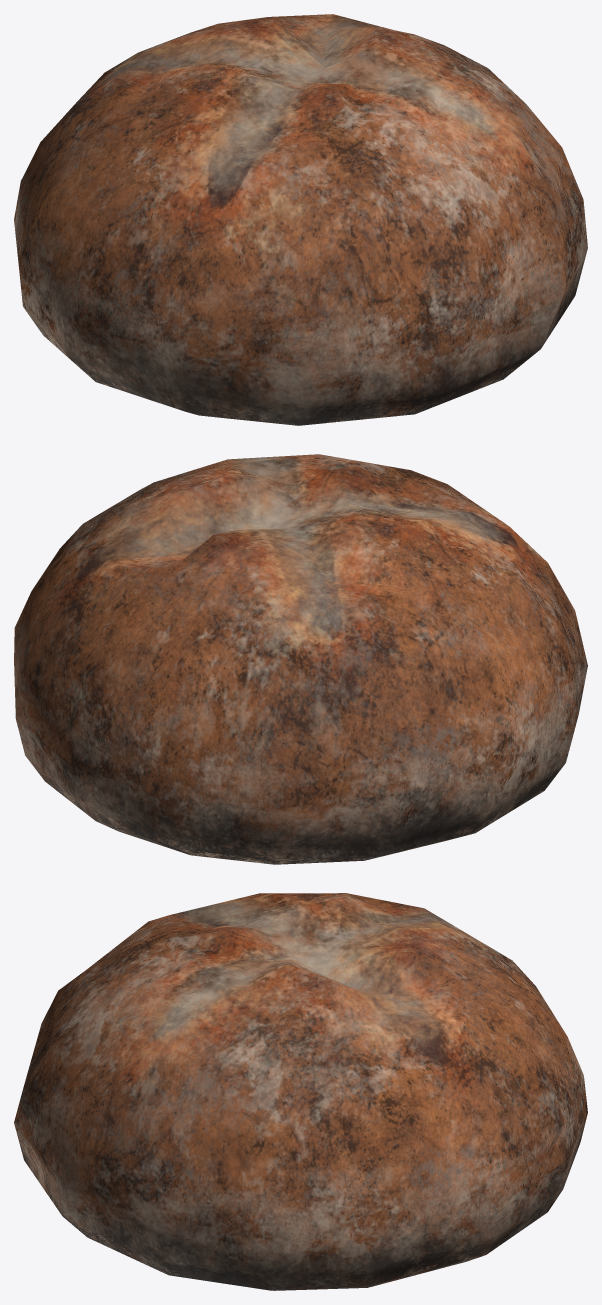
File: CAMP_bread.fbx
3 views of the same model, one above another, from view 1: azimuth 30°, elevation 25°; view 2: azimuth 150°, elevation 25°; view 3: azimuth 270°, elevation 25° (orthographic). The views are drawn at different scales.
Visible parts, largest first — view 1: CAMP_bread; view 2: CAMP_bread; view 3: CAMP_bread.
Boxes of the visible parts, box(x1,y1,x2,y2) form: CAMP_bread: box(14, 14, 587, 425); CAMP_bread: box(14, 454, 587, 864); CAMP_bread: box(14, 893, 587, 1290).
Size of the model in its own units: 28.75 by 15.37 by 29.22.
